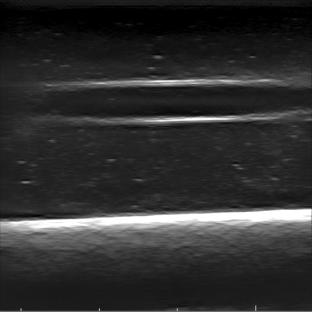vessel: (44, 76, 311, 125)
